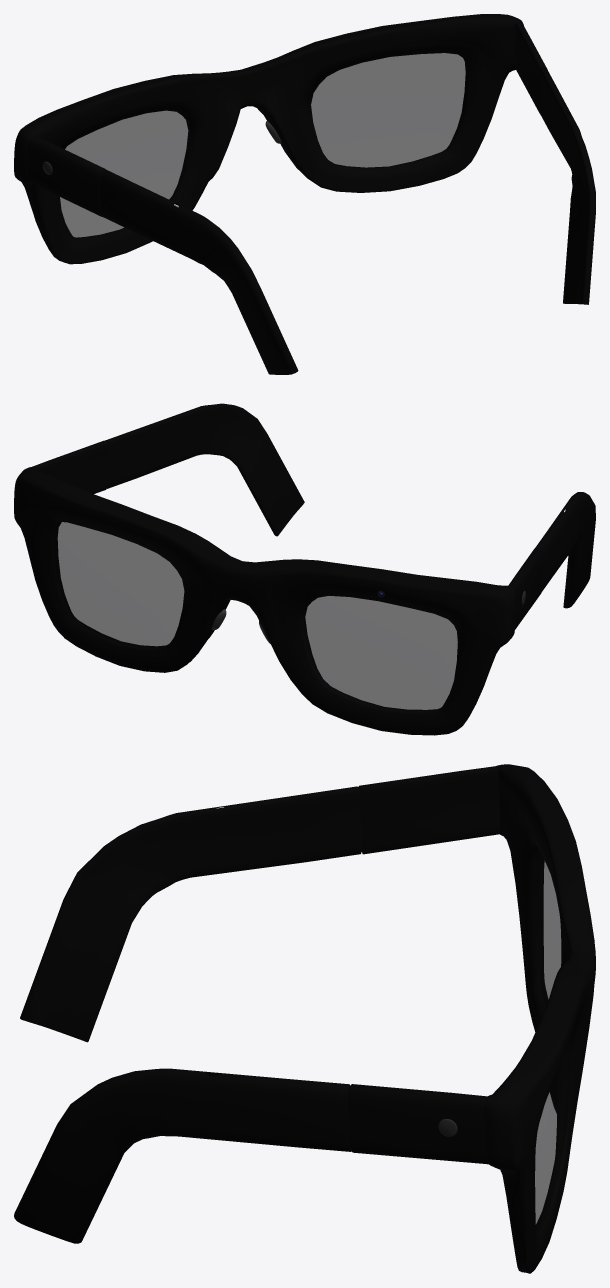
File: glasses-4.glb
3 renders of one model, top to bottom at view 1: azimuth 30°, elevation 25°; view 2: azimuth 150°, elevation 25°; view 3: azimuth 270°, elevation 25°, orthographic. The views are drawn at different scales.
Visible parts, largest first — view 1: Empty; view 2: Empty; view 3: Empty.
Boxes of the visible parts, x1=… form: Empty: x1=14, y1=14, x2=595, y2=374; Empty: x1=14, y1=403, x2=595, y2=735; Empty: x1=14, y1=764, x2=595, y2=1273.
Size of the model in its own units: 2.23 by 0.6889 by 1.6.
Materials: 6 (1 with a texture image).
